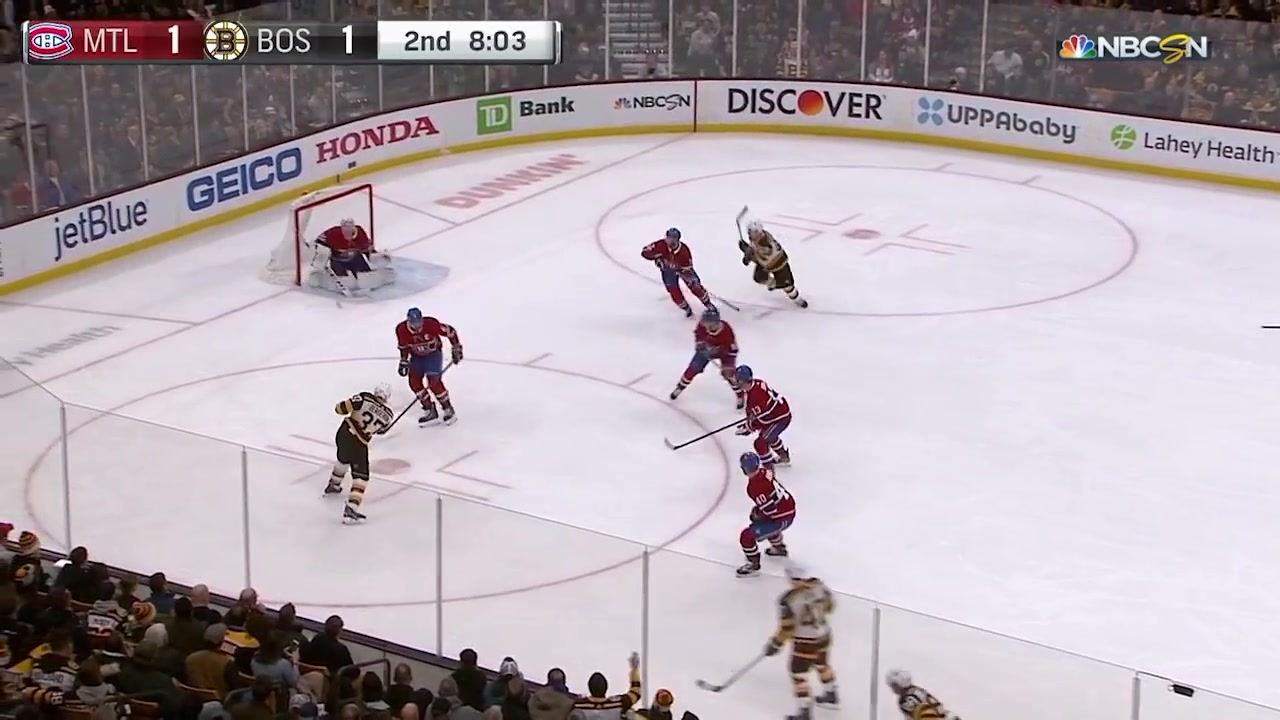geico: (187, 136, 311, 217)
